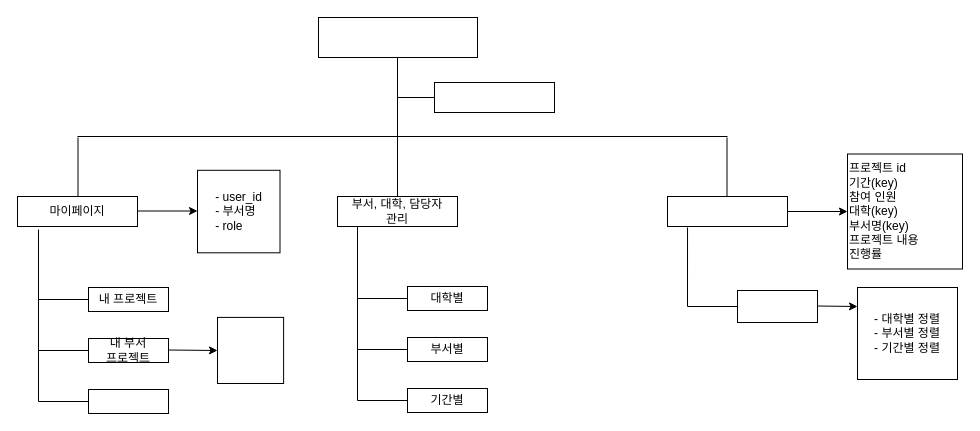
Some shapes in this 980 by 431 pixel diagram are drawn without their labels. Here are the shapes that lost their labels. From the top down, the centre of each, then its label:
At pixel 398 37: "메인 화면".
At pixel 494 97: "로그인 및 회원가입".
At pixel 727 211: "어플라이 프로젝트 관리".
At pixel 777 306: "프로젝트 페이지".
At pixel 250 350: "role에 따라 보여짐".
